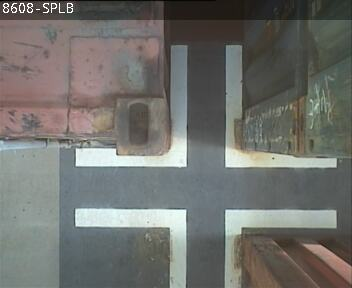groundmarker_1: (75, 45, 336, 168), (75, 208, 335, 288)
